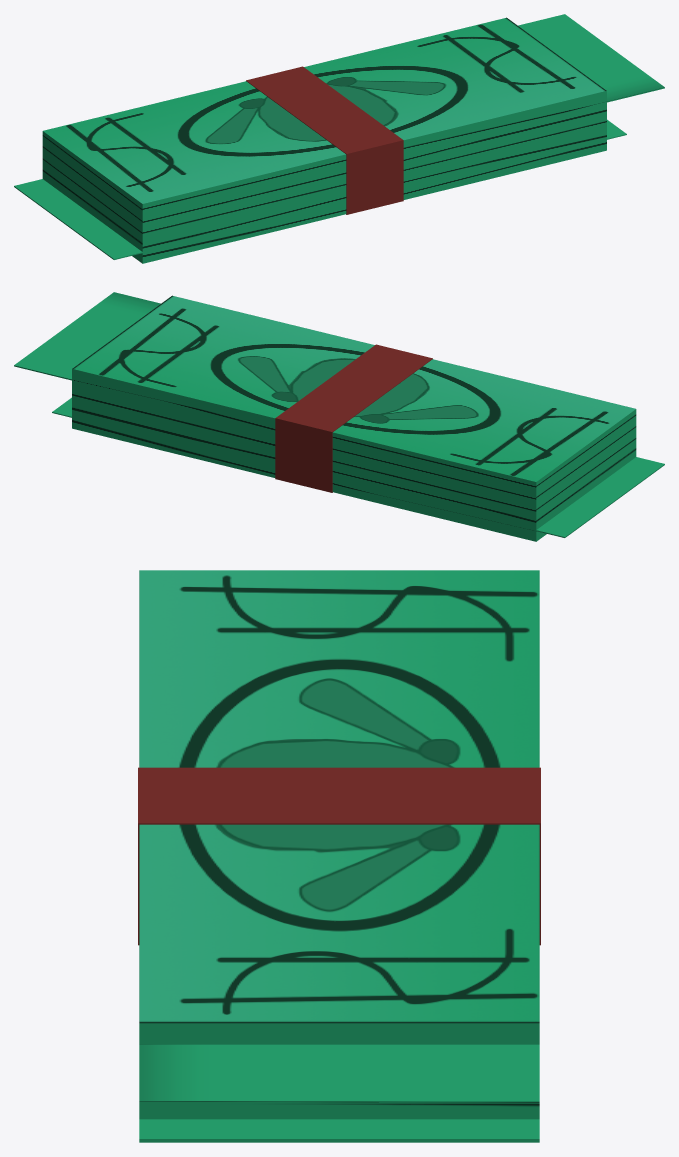
Rendered from money stack (sticking out bills 2 v2).fbx.
3 renders of one model, top to bottom at view 1: azimuth 30°, elevation 25°; view 2: azimuth 150°, elevation 25°; view 3: azimuth 270°, elevation 25°, orthographic. The views are drawn at different scales.
Visible parts, largest first — view 1: Plane; view 2: Plane; view 3: Plane.
Part boxes in pixels (x1=…): Plane: x1=14, y1=14, x2=664, y2=263; Plane: x1=14, y1=292, x2=664, y2=541; Plane: x1=138, y1=570, x2=540, y2=1142.
Bounding box in the file's own units: 718 × 75.84 × 227.
